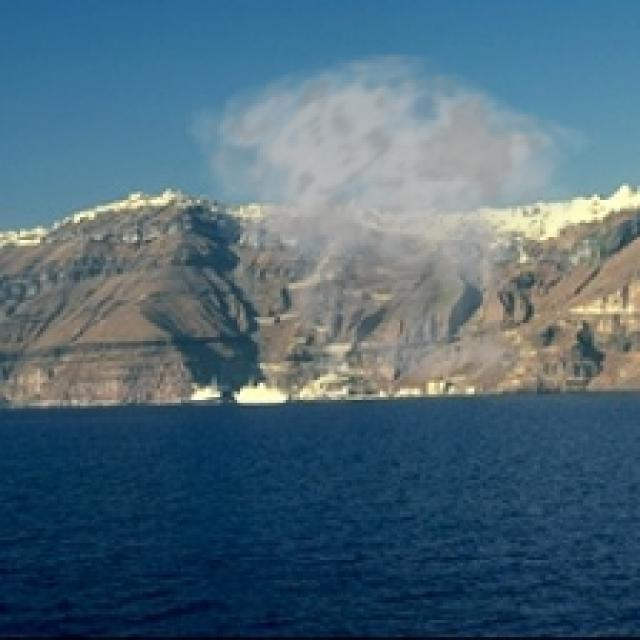smoke: (186, 52, 600, 414)
